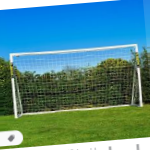goals: (9, 42, 144, 121)
